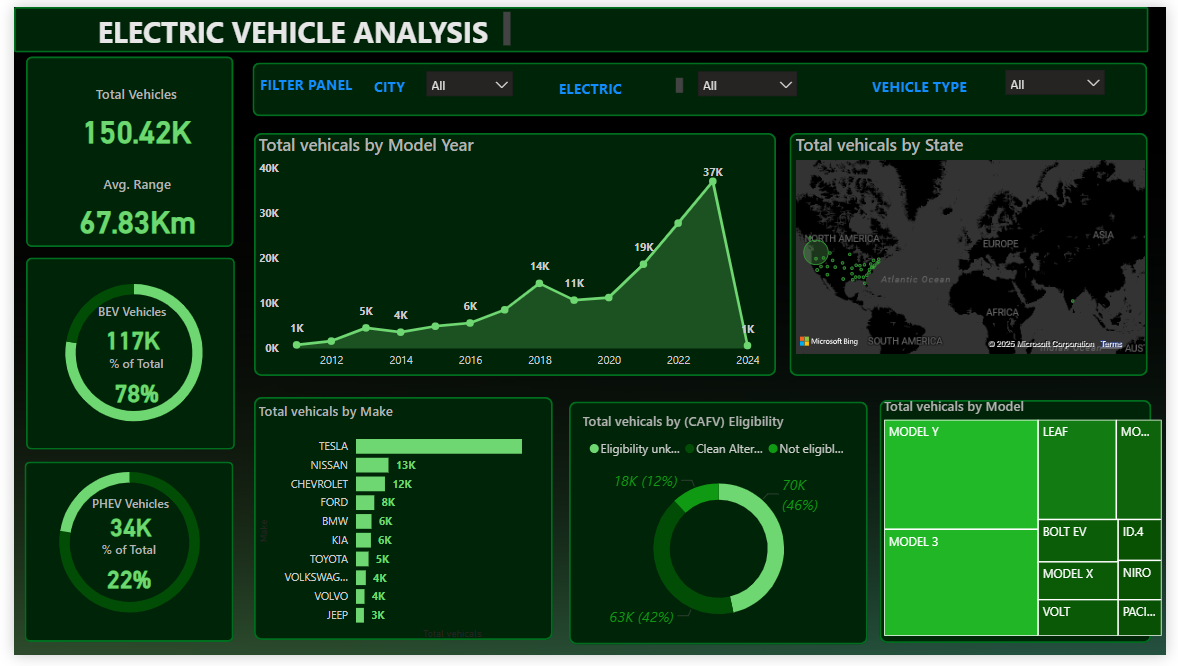

The dashboard page shown, as its layout file describes it:
{"tool":"powerbi","page":{"name":"Page 1","canvas":[1280,720],"ordinal":0},"visuals":[{"type":"shape","box":[0,0,1260.7,50.6],"z":0},{"type":"textbox","box":[88.3,0,468.3,50],"z":1000},{"type":"shape","box":[13.1,54.3,230.4,211.7],"z":2000},{"type":"card","title":"Total Vehicles","fields":{"Values":["Electric_Vehicle_Population_Data.Total vehicals"]},"box":[35,86.7,201.7,78.3],"z":3000},{"type":"card","title":"Avg. Range","fields":{"Values":["Electric_Vehicle_Population_Data.Avg Range"]},"box":[42.6,187,187,77.8],"z":4000},{"type":"shape","box":[13.1,279.1,232.3,213.5],"z":5000},{"type":"shape","box":[11.2,505.8,232.3,200.4],"z":6000},{"type":"donutChart","fields":{"Category":["Electric_Vehicle_Population_Data.Electric Vehicle Type"],"Y":["Electric_Vehicle_Population_Data.Total vehicals"]},"box":[0,266,266,234.1],"z":7000},{"type":"card","title":"BEV Vehicles","fields":{"Values":["Electric_Vehicle_Population_Data.BEV Vehicles"]},"box":[74.9,327.8,112.4,63.7],"z":8000},{"type":"card","title":"% of Total","fields":{"Values":["Electric_Vehicle_Population_Data.% of BEv"]},"box":[89.9,385.9,91.8,63.7],"z":9000},{"type":"donutChart","fields":{"Category":["Electric_Vehicle_Population_Data.Electric Vehicle Type"],"Y":["Electric_Vehicle_Population_Data.Total vehicals"]},"box":[0,468,256,252],"z":10000},{"type":"card","title":"PHEV Vehicles","fields":{"Values":["Electric_Vehicle_Population_Data.PHEV Vehicles"]},"box":[74,542,112,52],"z":11000},{"type":"card","title":"% of Total","fields":{"Values":["Electric_Vehicle_Population_Data.% of PHEv"]},"box":[82,594,92,64],"z":12000},{"type":"shape","box":[265.7,62,994.2,59.9],"z":13000},{"type":"shape","box":[266,140,580,270],"z":14000},{"type":"areaChart","fields":{"Category":["Electric_Vehicle_Population_Data.Model Year"],"Y":["Electric_Vehicle_Population_Data.Total vehicals"]},"box":[266,140,566,270],"z":15000},{"type":"shape","box":[862,140,398,270],"z":16000},{"type":"map","fields":{"Category":["Electric_Vehicle_Population_Data.State"],"Size":["Electric_Vehicle_Population_Data.Total vehicals"]},"box":[862.7,140.6,397.8,250.8],"z":17000},{"type":"shape","box":[266,434,332,270],"z":18000},{"type":"barChart","fields":{"Category":["Electric_Vehicle_Population_Data.Make"],"Y":["Electric_Vehicle_Population_Data.Total vehicals"]},"box":[266,438,332,268],"z":19000},{"type":"shape","box":[616,438,332,270],"z":20000},{"type":"donutChart","title":"Total vehicals by (CAFV) Eligibility","fields":{"Category":["Electric_Vehicle_Population_Data.Clean Alternative Fuel Vehicle (CAFV) Eligibility"],"Y":["Electric_Vehicle_Population_Data.Total vehicals"]},"box":[626,450,312,254],"z":21000},{"type":"shape","box":[962,436,302,270],"z":22000},{"type":"treemap","fields":{"Group":["Electric_Vehicle_Population_Data.Model"],"Values":["Electric_Vehicle_Population_Data.Total vehicals"]},"box":[962,434,318,270],"z":23000},{"type":"slicer","fields":{"Values":["Electric_Vehicle_Population_Data.City"]},"box":[448.2,62,116.1,59.9],"z":24000},{"type":"textbox","box":[268.4,70.3,126.2,35.1],"z":25000},{"type":"textbox","box":[394.6,71.9,60.7,35.1],"z":26000},{"type":"textbox","box":[600.7,73.5,148.6,36.7],"z":27000},{"type":"slicer","fields":{"Values":["Electric_Vehicle_Population_Data.Electric Utility"]},"box":[750,61.7,130,50],"z":28000},{"type":"slicer","fields":{"Values":["Electric_Vehicle_Population_Data.Electric Vehicle Type"]},"box":[1091.7,60,130,50],"z":29000},{"type":"textbox","box":[949,71.9,129.4,39.9],"z":30000}]}

Visuals, with their boxes in screenshot pixels (x1, y1, x2, y2), scaled from the page's 1280x720 canvas onto the 1178x666 screenshot:
shape: bbox=(0, 0, 1160, 47)
textbox: bbox=(81, 0, 512, 46)
shape: bbox=(12, 50, 224, 246)
"Total Vehicles" card: bbox=(32, 80, 218, 153)
"Avg. Range" card: bbox=(39, 173, 211, 245)
shape: bbox=(12, 258, 226, 456)
shape: bbox=(10, 468, 224, 653)
donutChart - Electric_Vehicle_Population_Data.Electric Vehicle Type x Electric_Vehicle_Population_Data.Total vehicals: bbox=(0, 246, 245, 463)
"BEV Vehicles" card: bbox=(69, 303, 172, 362)
"% of Total" card: bbox=(83, 357, 167, 416)
donutChart - Electric_Vehicle_Population_Data.Electric Vehicle Type x Electric_Vehicle_Population_Data.Total vehicals: bbox=(0, 433, 236, 665)
"PHEV Vehicles" card: bbox=(68, 501, 171, 549)
"% of Total" card: bbox=(75, 549, 160, 609)
shape: bbox=(245, 57, 1160, 113)
shape: bbox=(245, 130, 779, 379)
areaChart - Electric_Vehicle_Population_Data.Model Year x Electric_Vehicle_Population_Data.Total vehicals: bbox=(245, 130, 766, 379)
shape: bbox=(793, 130, 1160, 379)
map - Electric_Vehicle_Population_Data.State x Electric_Vehicle_Population_Data.Total vehicals: bbox=(794, 130, 1160, 362)
shape: bbox=(245, 401, 550, 651)
barChart - Electric_Vehicle_Population_Data.Make x Electric_Vehicle_Population_Data.Total vehicals: bbox=(245, 405, 550, 653)
shape: bbox=(567, 405, 872, 655)
"Total vehicals by (CAFV) Eligibility" donutChart: bbox=(576, 416, 863, 651)
shape: bbox=(885, 403, 1163, 653)
treemap - Electric_Vehicle_Population_Data.Model x Electric_Vehicle_Population_Data.Total vehicals: bbox=(885, 401, 1177, 651)
slicer - Electric_Vehicle_Population_Data.City: bbox=(412, 57, 519, 113)
textbox: bbox=(247, 65, 363, 97)
textbox: bbox=(363, 67, 419, 99)
textbox: bbox=(553, 68, 690, 102)
slicer - Electric_Vehicle_Population_Data.Electric Utility: bbox=(690, 57, 810, 103)
slicer - Electric_Vehicle_Population_Data.Electric Vehicle Type: bbox=(1005, 56, 1124, 102)
textbox: bbox=(873, 67, 992, 103)
